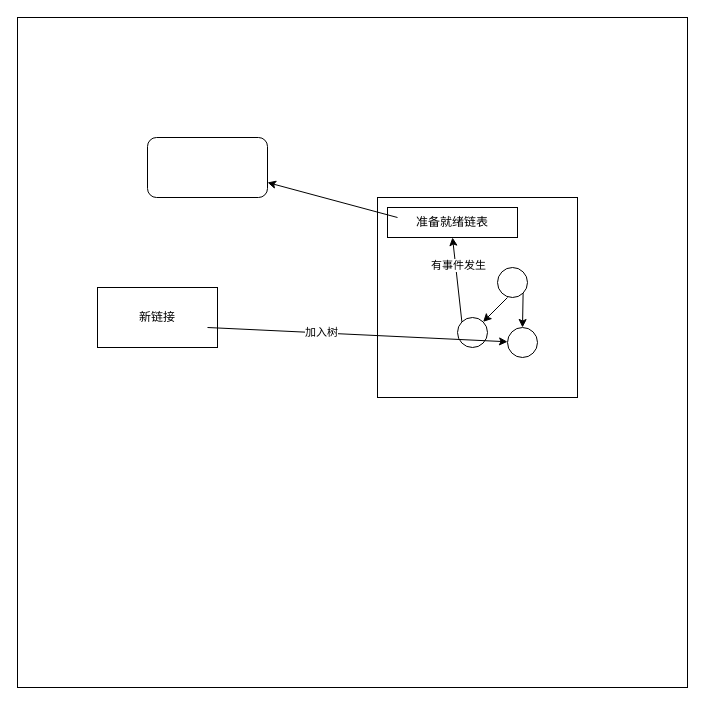
Some shapes in this 705 by 705 pixel diagram are drawn without their labels. Here are the shapes that lost their labels. From the top down, the centre of each, then its label:
the point at 207,167: epoll_wait
the point at 472,332: 链接
